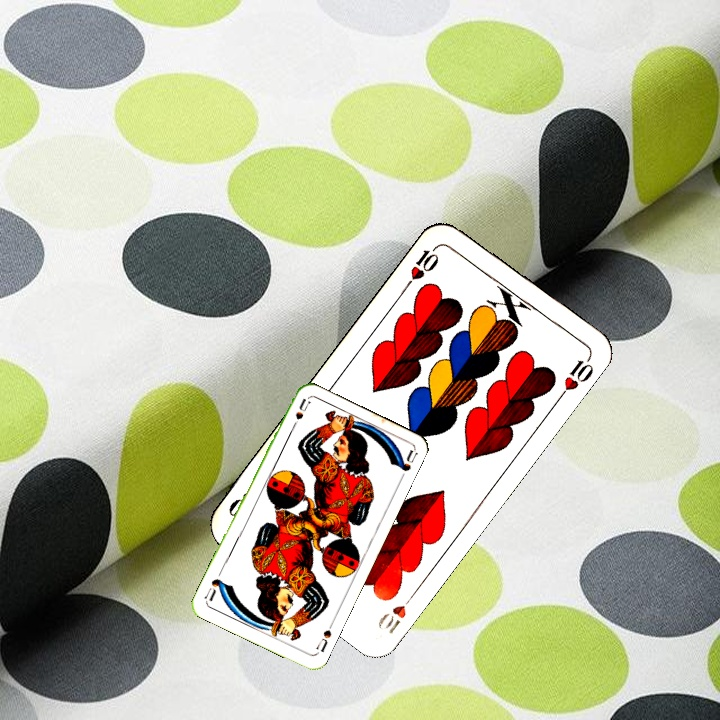H10: (401, 241, 442, 291), (382, 587, 419, 637)
SU: (286, 395, 312, 434), (312, 625, 334, 654)
